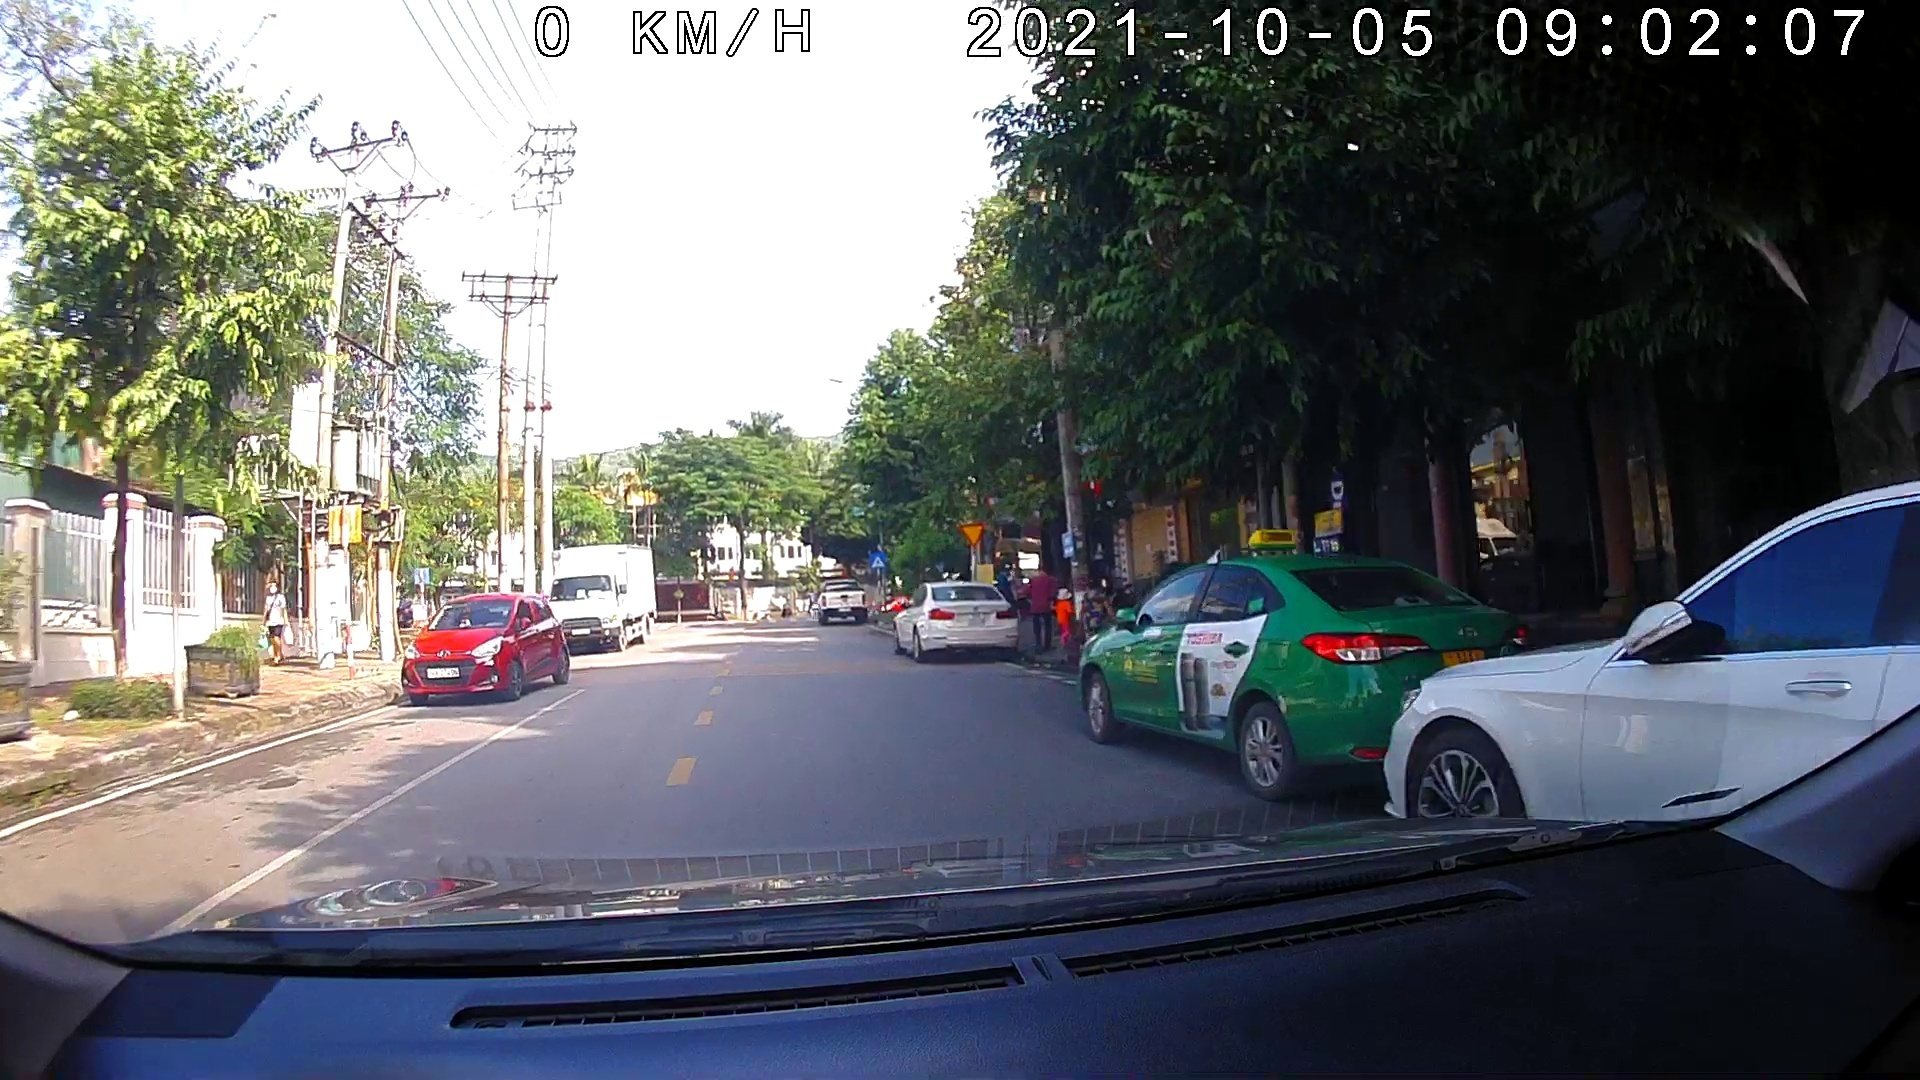Bien khac: (961, 520, 982, 549)
Nguoi di bo: (869, 551, 887, 568)
